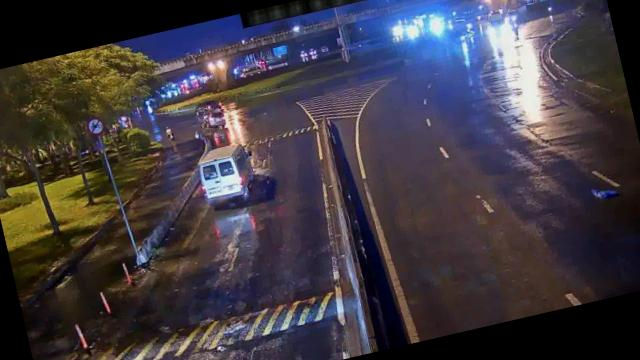Bus: (194, 140, 262, 206)
Car: (201, 106, 230, 132)
